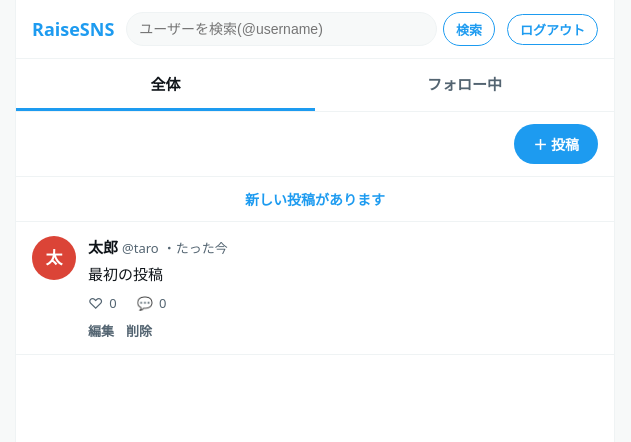
Test: TimelinePage › prepends pending new posts to the list when the notification banner is clicked
Click the button "新しい投稿があります" at {"x": 315, "y": 200}, box [16, 177, 614, 222]
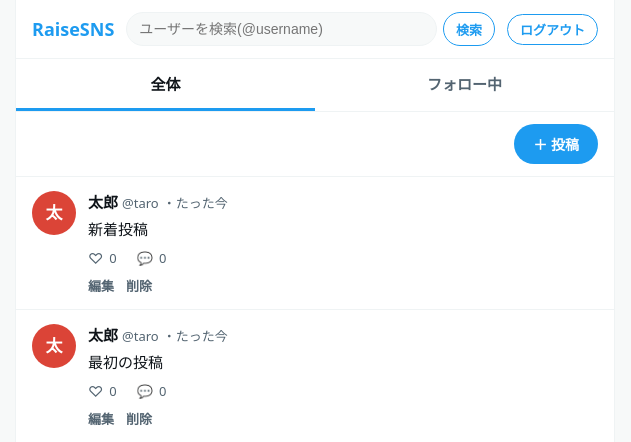
Now the text "新着投稿" is shown, box [88, 218, 148, 238]
Now the button "新しい投稿があります" is gone
